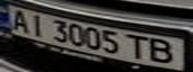0: (84, 25, 103, 52), (66, 21, 84, 47)
3: (45, 17, 72, 43)
5: (100, 28, 124, 56)
A: (3, 7, 33, 34)
B: (145, 37, 181, 65)
I: (24, 12, 51, 37)
T: (124, 33, 151, 61)
